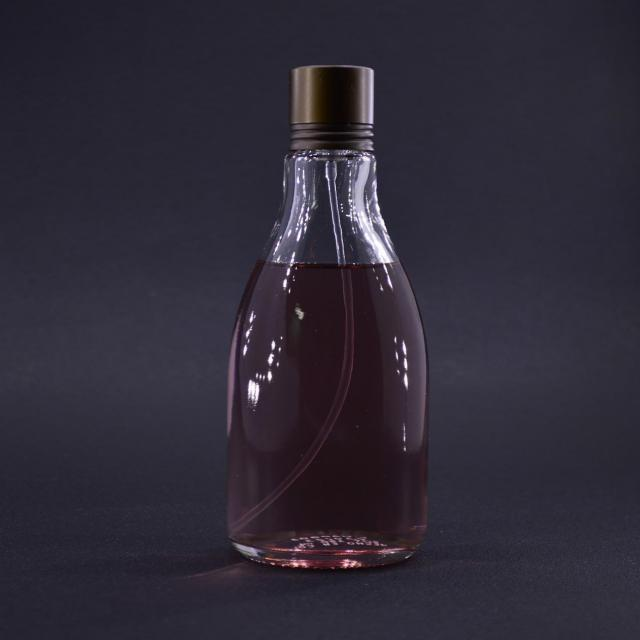bottle-glass: (214, 59, 438, 580)
